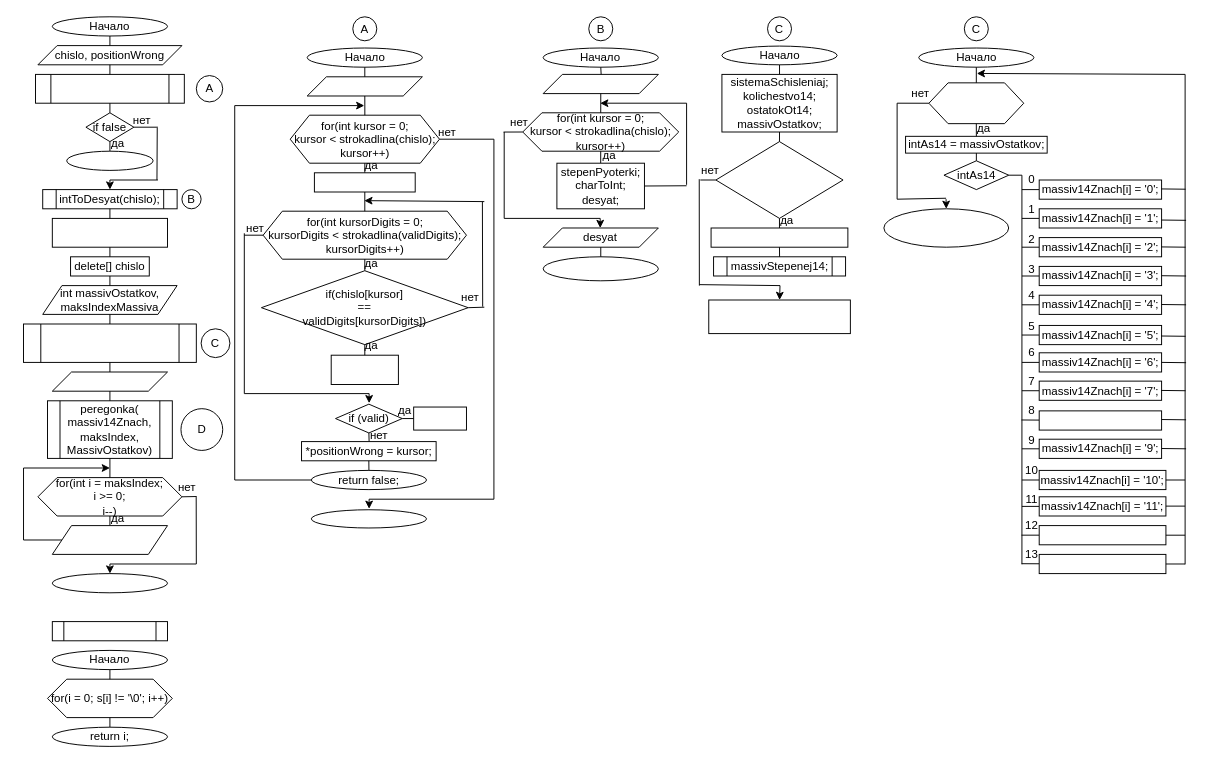
The diagram is 1210 pixels wide and 763 high, and some of its shapes have lost their labels. Each missing label, with the centre of its shape:
"*maksIndexMassiva += 1;" belongs at pixel 779 237.
"*maksIndexMassiva += 1; massivOstatkov;" belongs at pixel 779 316.
"*massiv14Znach" belongs at pixel 109 381.
"bool valid = false;" belongs at pixel 364 182.
"continue;" belongs at pixel 439 418.
"for(int i = 0; i < maksIndex; i++)" belongs at pixel 976 103.
"if(kolichestvo14 > sistemaSchisleniaj)" belongs at pixel 779 179.
"int desyat = 0;" belongs at pixel 600 83.
"int desyat = intToDesyat(chislo);" belongs at pixel 109 232.
"massiv14Znach[i]" belongs at pixel 109 539.
"massiv14Znach[i] = '12';" belongs at pixel 1102 535.
"massiv14Znach[i] = '13';" belongs at pixel 1102 563.
"massiv14Znach[i] = '8';" belongs at pixel 1100 420.
"massivStepenej14(desyat, massivOstatkov, &maksIndex)" belongs at pixel 109 342.
"proverka(chislo, &positionWrong)" belongs at pixel 109 88.
"return 228;" belongs at pixel 109 160.
"return desyat;" belongs at pixel 600 268.
"return massiv14Znach;" belongs at pixel 946 227.
"return true;" belongs at pixel 368 518.
"strokadlina" belongs at pixel 109 631.
"valid = true; break;" belongs at pixel 364 369.
"validDigits" belongs at pixel 364 86.
"Конец" belongs at pixel 109 583.
